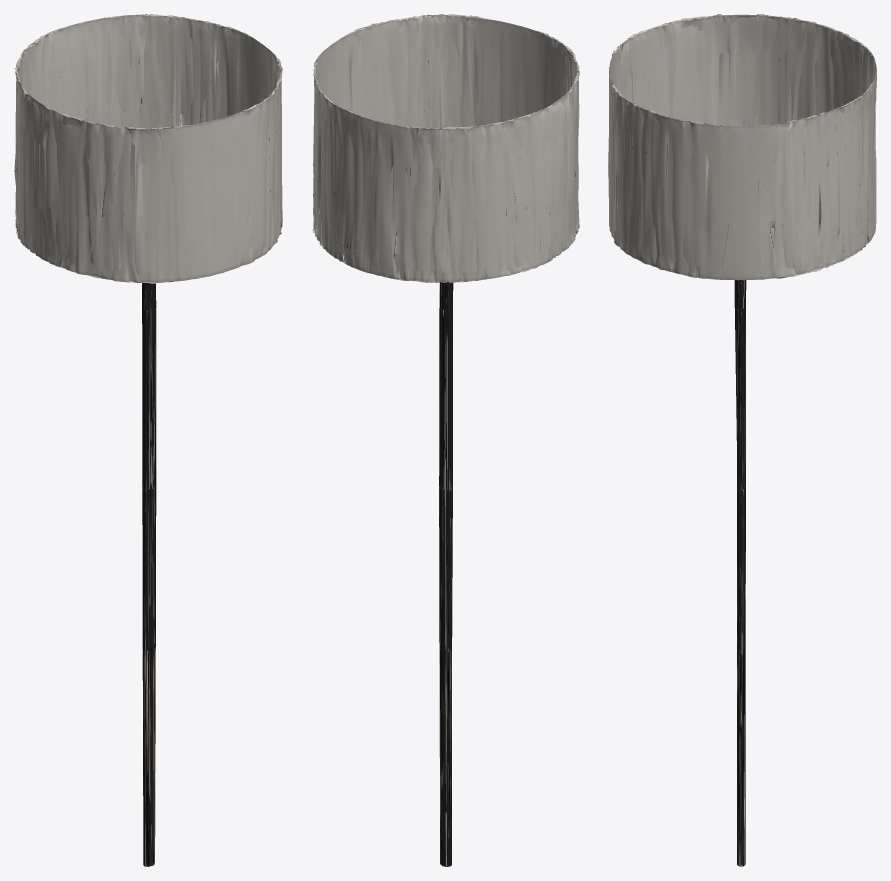
The model's file is desktop.glb.
The picture shows the model from 3 angles, left to right: view 1: azimuth 30°, elevation 25°; view 2: azimuth 150°, elevation 25°; view 3: azimuth 270°, elevation 25°; orthographic projection.
Visible parts, largest first — view 1: floorlamp; view 2: floorlamp; view 3: floorlamp.
Boxes of the visible parts, x1=… form: floorlamp: x1=14, y1=14, x2=282, y2=866; floorlamp: x1=312, y1=14, x2=579, y2=866; floorlamp: x1=608, y1=14, x2=876, y2=866.
Bounding box in the file's own units: 0.487 × 1.6 × 0.4895.
1 material, 1 textured.
